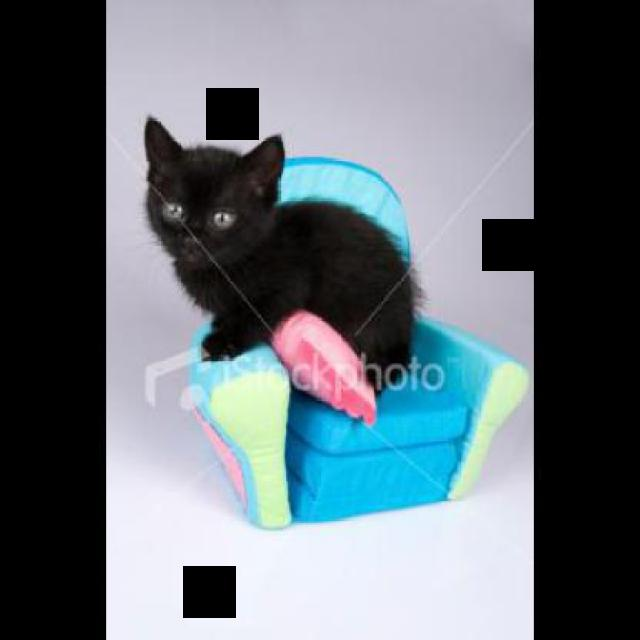unauthorized: (142, 114, 426, 394)
